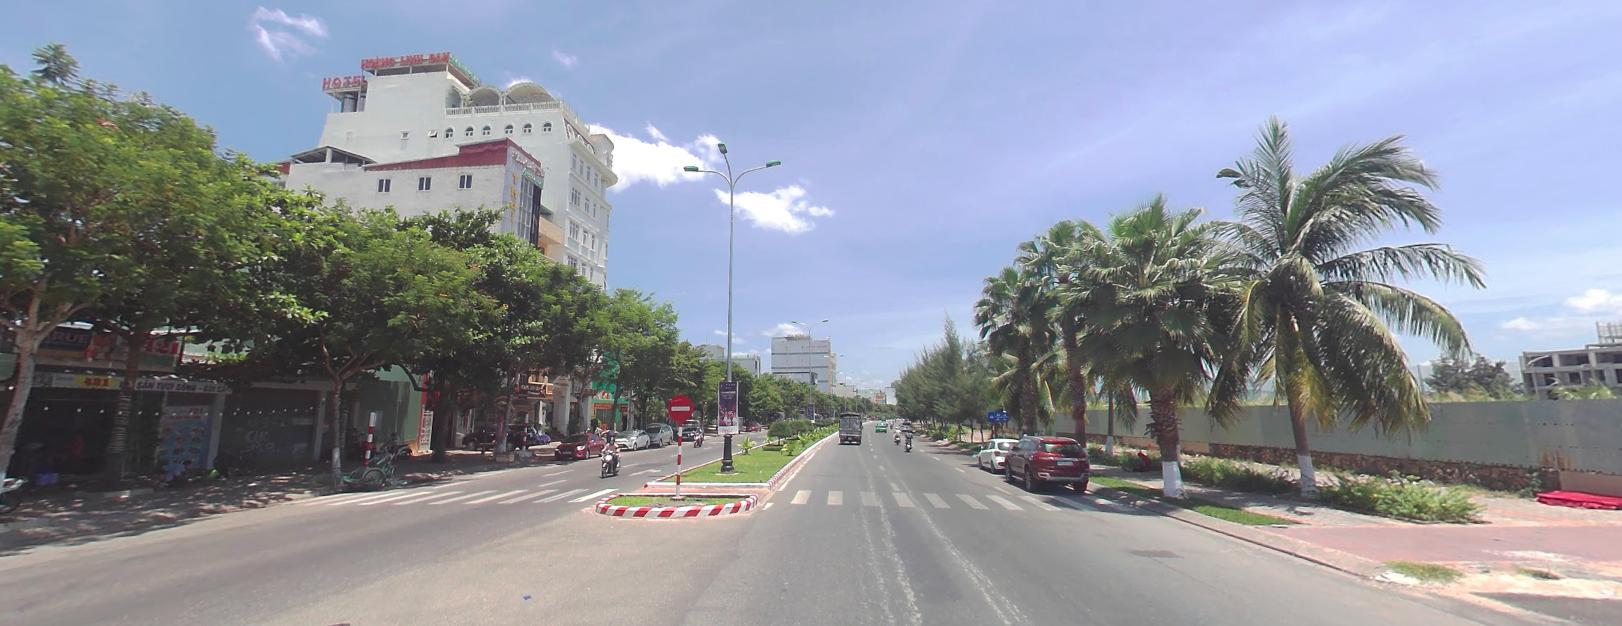Cam nguoc chieu: (667, 393, 694, 421), (668, 393, 692, 420)
